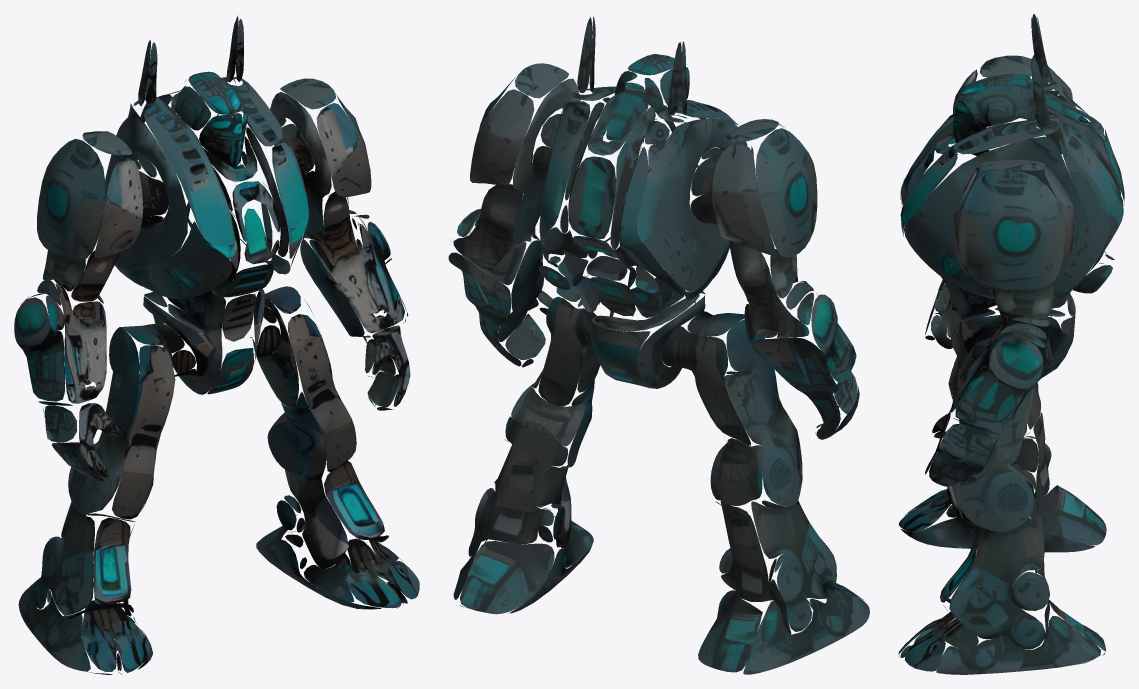
Rendered from mech.glb.
The picture shows the model from 3 angles, left to right: view 1: azimuth 30°, elevation 25°; view 2: azimuth 150°, elevation 25°; view 3: azimuth 270°, elevation 25°; orthographic projection. The views are drawn at different scales.
Parts seen in each view (by area): view 1: output.obj; view 2: output.obj; view 3: output.obj.
Boxes of the visible parts, box(x1,y1,x2,y2) form: output.obj: box(14, 16, 419, 674); output.obj: box(448, 16, 869, 674); output.obj: box(898, 14, 1124, 674).
Bounding box in the file's own units: 0.6577 × 0.9862 × 0.3616.
1 material, 1 textured.
